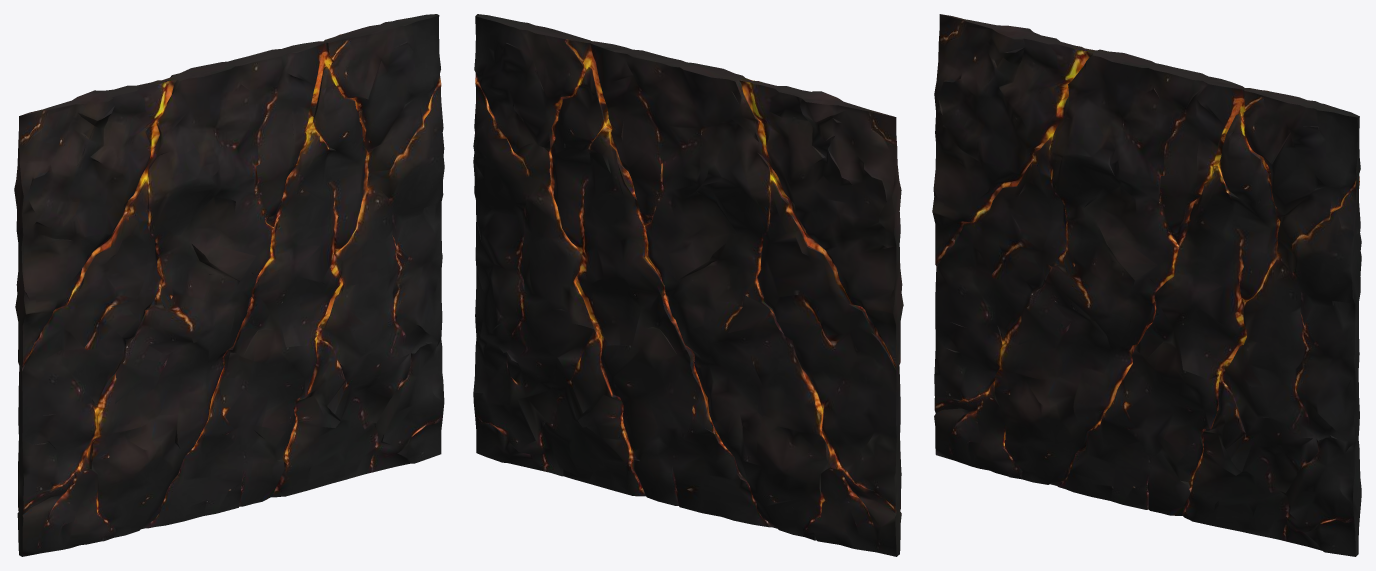
The model's file is mine_wall_rock_ore_idle.glb.
3 renders of one model, left to right at view 1: azimuth 30°, elevation 25°; view 2: azimuth 150°, elevation 25°; view 3: azimuth 330°, elevation 25°, orthographic.
Visible parts, largest first — view 1: tripo_node_4732f1f6-82b5-4ae1-8eb3-b9e97eb4fb0e; view 2: tripo_node_4732f1f6-82b5-4ae1-8eb3-b9e97eb4fb0e; view 3: tripo_node_4732f1f6-82b5-4ae1-8eb3-b9e97eb4fb0e.
Part boxes in pixels (bbox=[...]): tripo_node_4732f1f6-82b5-4ae1-8eb3-b9e97eb4fb0e: bbox=[14, 14, 444, 556]; tripo_node_4732f1f6-82b5-4ae1-8eb3-b9e97eb4fb0e: bbox=[473, 14, 903, 556]; tripo_node_4732f1f6-82b5-4ae1-8eb3-b9e97eb4fb0e: bbox=[932, 14, 1361, 556].
Bounding box in the file's own units: 0.9996 × 0.9996 × 0.1003.
Materials: 1 (1 with a texture image).
